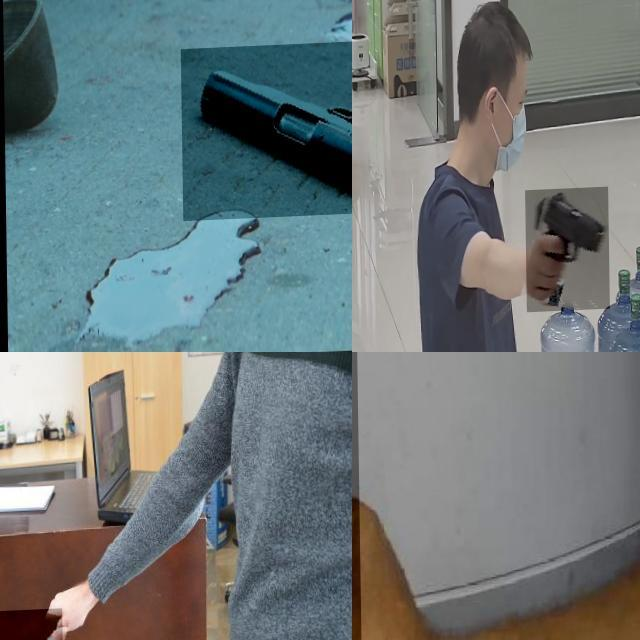-: (352, 352, 431, 640), (0, 610, 62, 640)
gun-knife-thesis - v11 Yolov5 augmented: (179, 39, 352, 222), (524, 190, 608, 316)
